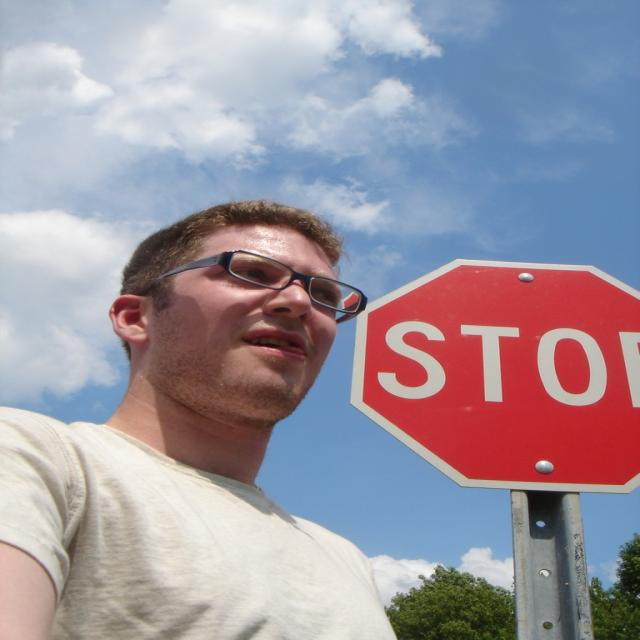Stop-sign: (349, 259, 639, 493)
